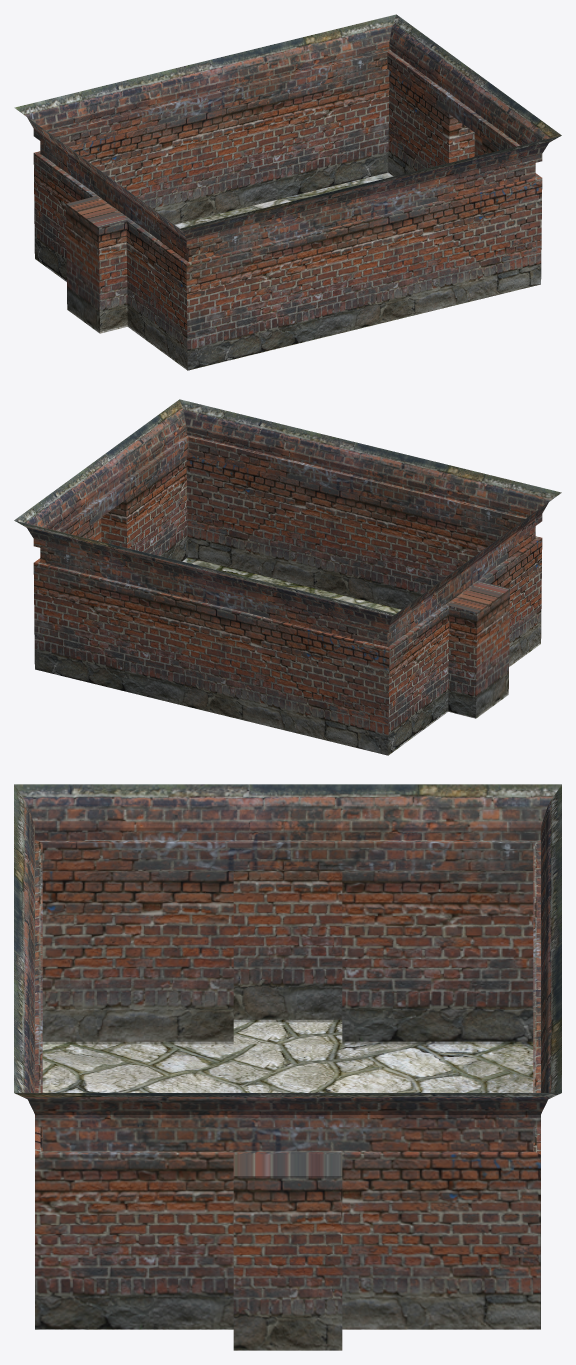
Rendered from RoomLeftRightDoor.fbx.
The picture shows the model from 3 angles, top to bottom: view 1: azimuth 30°, elevation 25°; view 2: azimuth 150°, elevation 25°; view 3: azimuth 270°, elevation 25°; orthographic projection. The views are drawn at different scales.
Visible parts, largest first — view 1: RoomLeftRightDoor; view 2: RoomLeftRightDoor; view 3: RoomLeftRightDoor.
Boxes of the visible parts, box(x1,y1,x2,y2) form: RoomLeftRightDoor: box(14, 14, 561, 370); RoomLeftRightDoor: box(14, 399, 561, 755); RoomLeftRightDoor: box(14, 784, 561, 1350).
Bounding box in the file's own units: 856 × 301 × 600.
